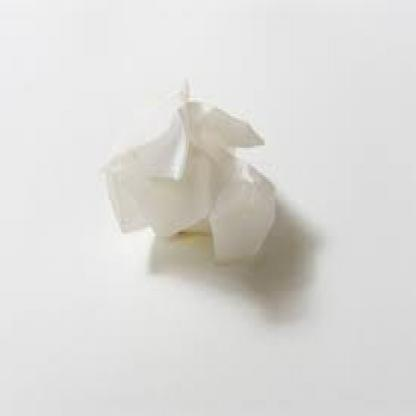paper: (103, 80, 277, 259)
